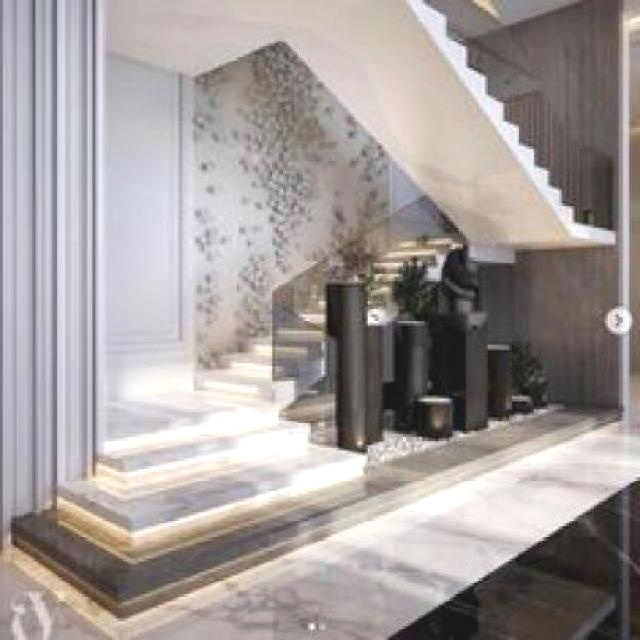stair: (7, 237, 385, 581), (370, 6, 616, 243)
